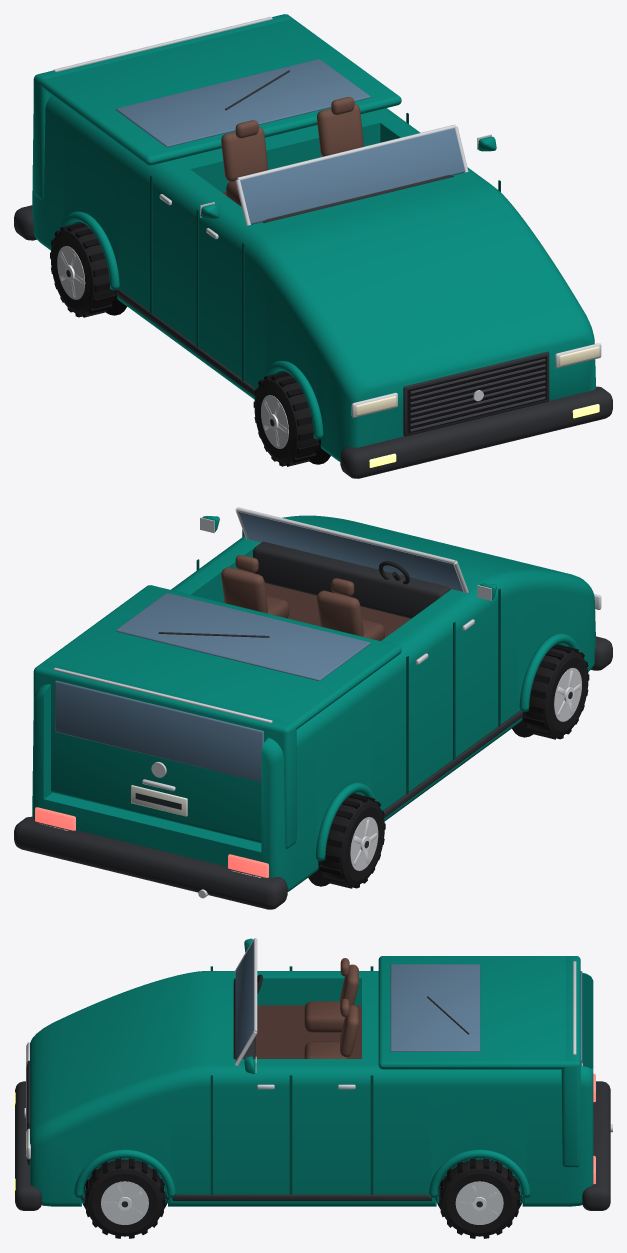
The model's file is honeymoon.fbx.
3 views of the same model, one above another, from view 1: azimuth 30°, elevation 25°; view 2: azimuth 150°, elevation 25°; view 3: azimuth 270°, elevation 25° (orthographic). The views are drawn at different scales.
Parts seen in each view (by area): view 1: Body, Lid, Wheel_3, Wheel_1, LidFlap; view 2: Body, Lid, LidFlap, Wheel_3, Wheel_1; view 3: Body, Lid, Wheel_0, Wheel_2, LidFlap.
Boxes of the visible parts, <box> form: Body: <box>14,95,612,478</box>; Lid: <box>33,14,401,165</box>; Wheel_3: <box>253,371,319,466</box>; Wheel_1: <box>50,222,115,317</box>; LidFlap: <box>33,14,291,200</box>; Body: <box>14,507,612,909</box>; Lid: <box>33,585,401,733</box>; LidFlap: <box>33,662,296,848</box>; Wheel_3: <box>523,644,589,739</box>; Wheel_1: <box>319,793,385,888</box>; Body: <box>14,938,612,1210</box>; Lid: <box>378,956,580,1069</box>; Wheel_0: <box>439,1158,519,1238</box>; Wheel_2: <box>84,1158,165,1238</box>; LidFlap: <box>561,956,582,1167</box>.
Size of the model in its own units: 5.5 by 4.05 by 10.96.
